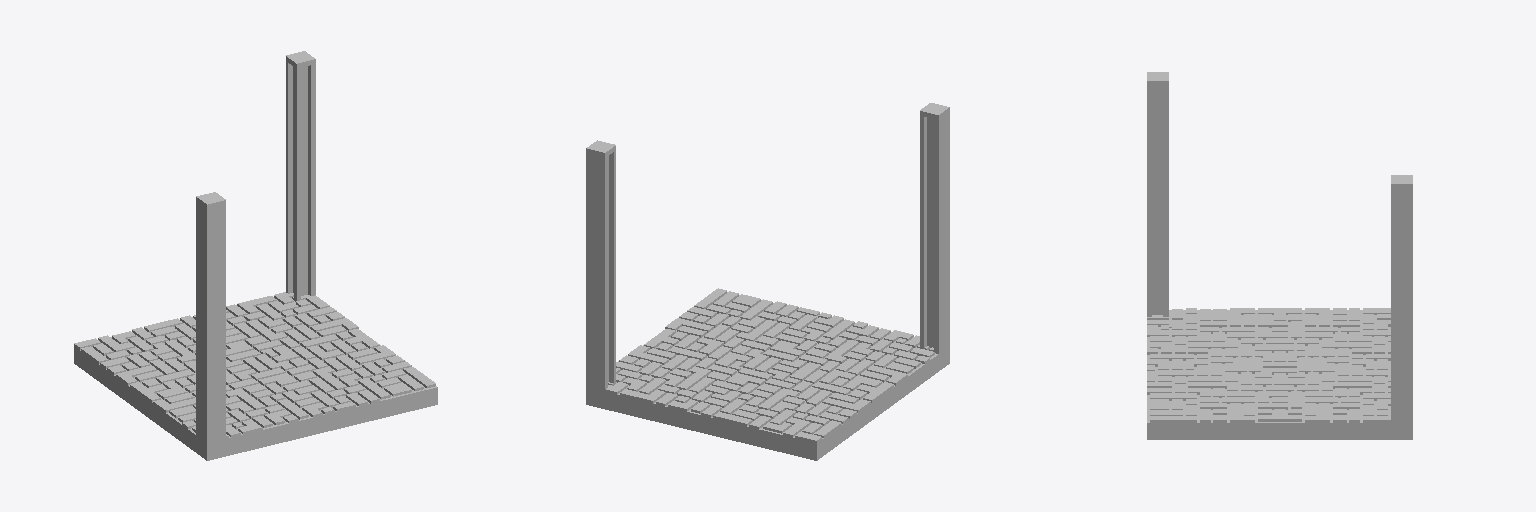
File: CityCornerCutoffOuter-0.obj
The picture shows the model from 3 angles: view 1: azimuth 30°, elevation 25°; view 2: azimuth 150°, elevation 25°; view 3: azimuth 270°, elevation 25°; orthographic projection.
Visible parts, largest first — view 1: object 1; view 2: object 1; view 3: object 1.
Boxes of the visible parts, box(x1,y1,x2,y2) form: object 1: box(74, 51, 437, 460); object 1: box(586, 103, 949, 460); object 1: box(1147, 72, 1412, 439).
Bounding box in the file's own units: 9.6 × 10.2 × 9.6.